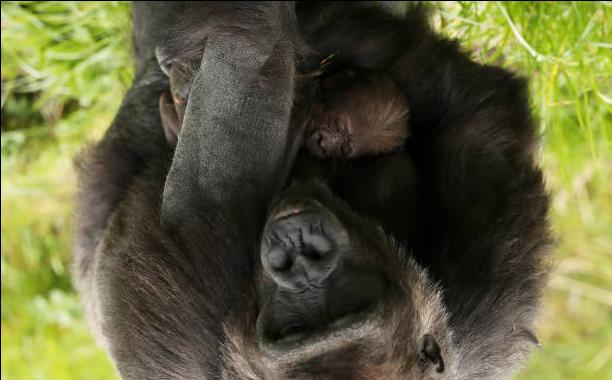gorille_Autres: (76, 0, 559, 379)
